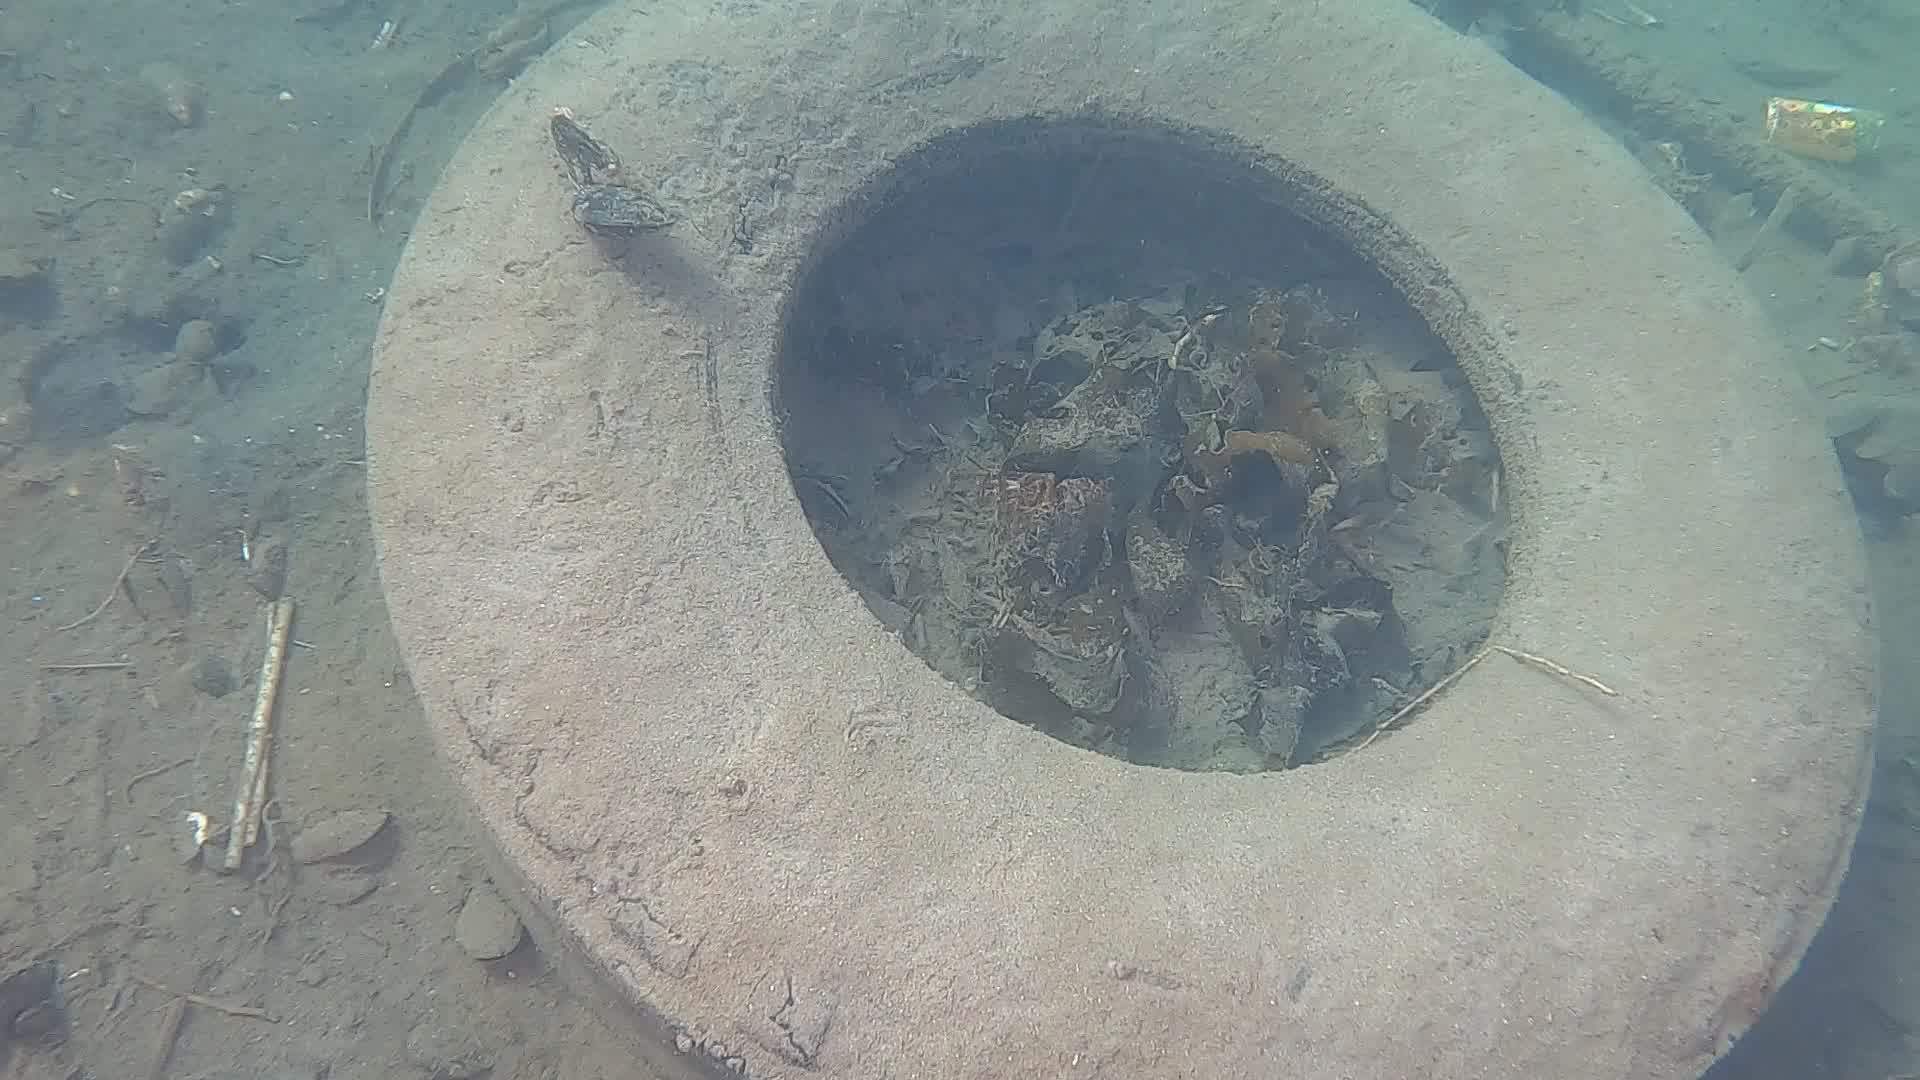tire: (357, 0, 1888, 1080)
